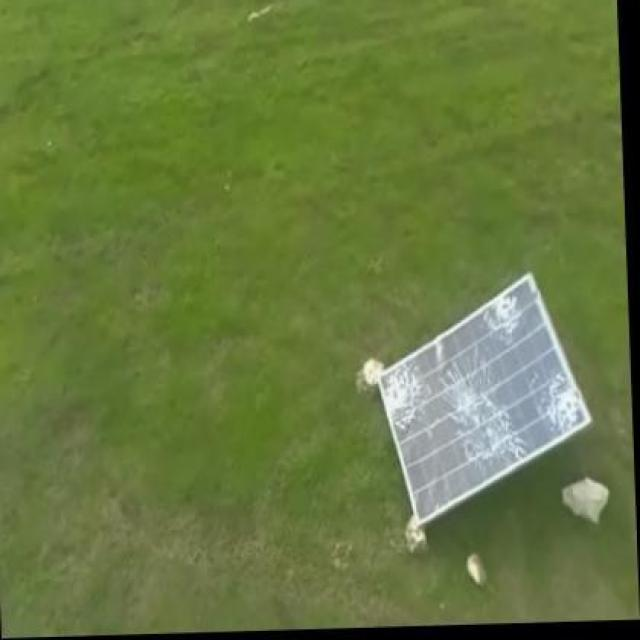cracked: (380, 265, 600, 529)
